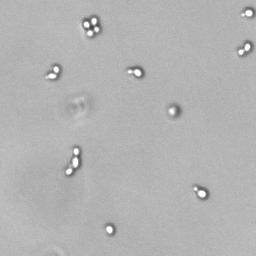budding: (61, 143, 83, 177), (42, 62, 66, 84), (190, 183, 214, 204), (233, 39, 255, 58), (124, 64, 145, 80), (238, 5, 256, 21)
cluster: (79, 15, 104, 39)
individual: (164, 102, 184, 120), (103, 223, 118, 238)
